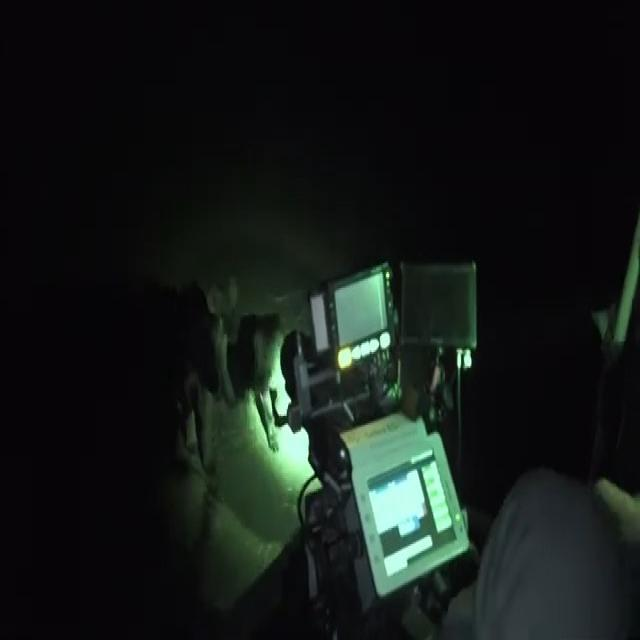animal: (148, 234, 309, 513)
device: (268, 154, 539, 640)
